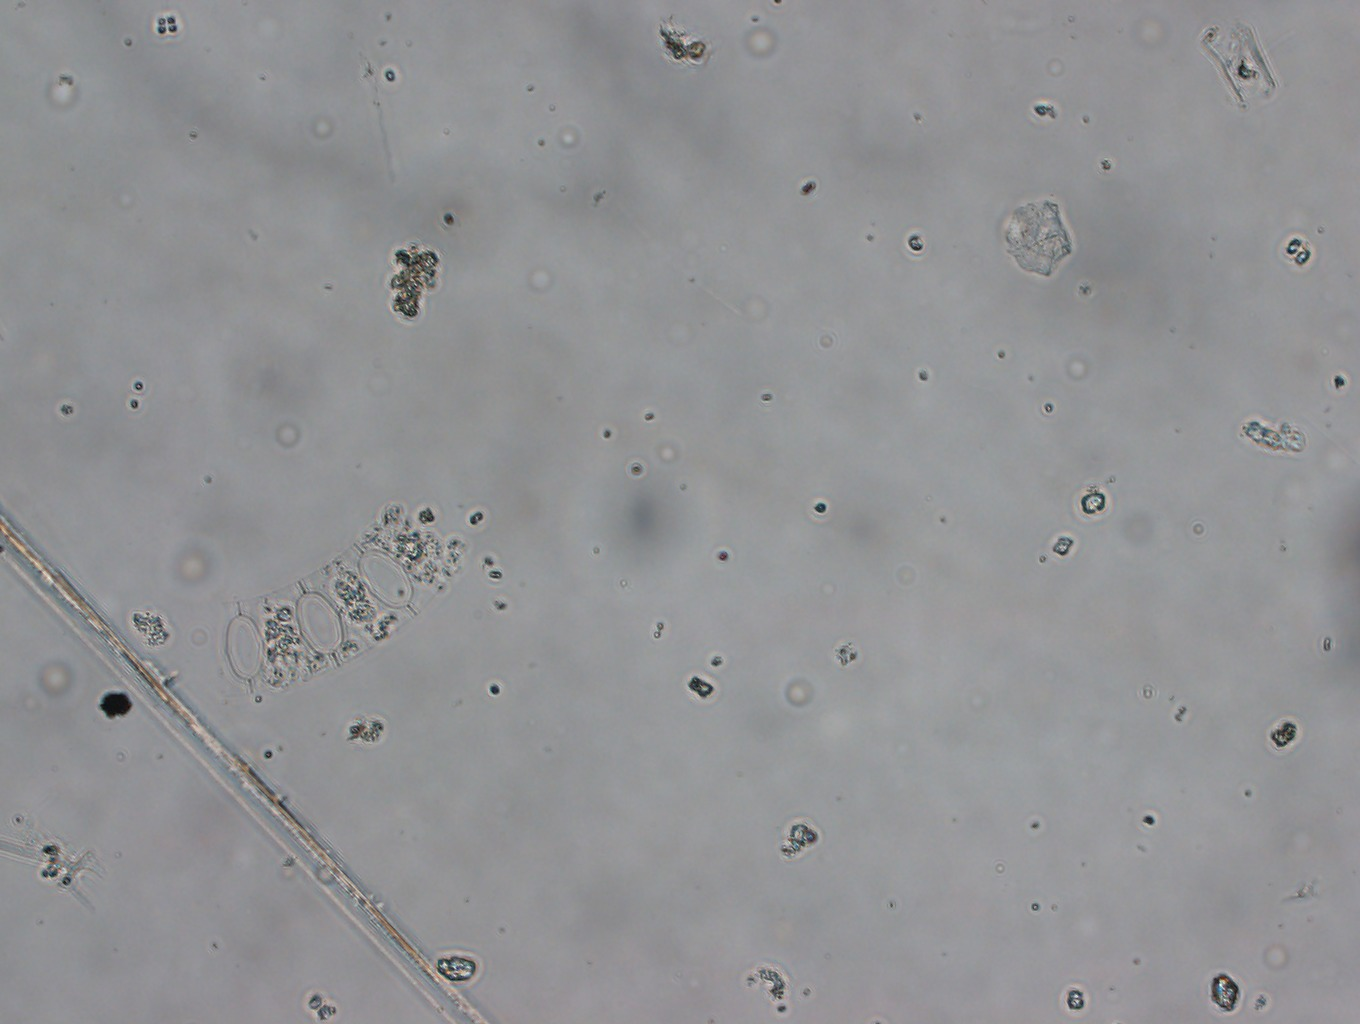eucampia: (219, 463, 547, 708)
